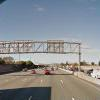Car: (37, 62, 58, 78)
